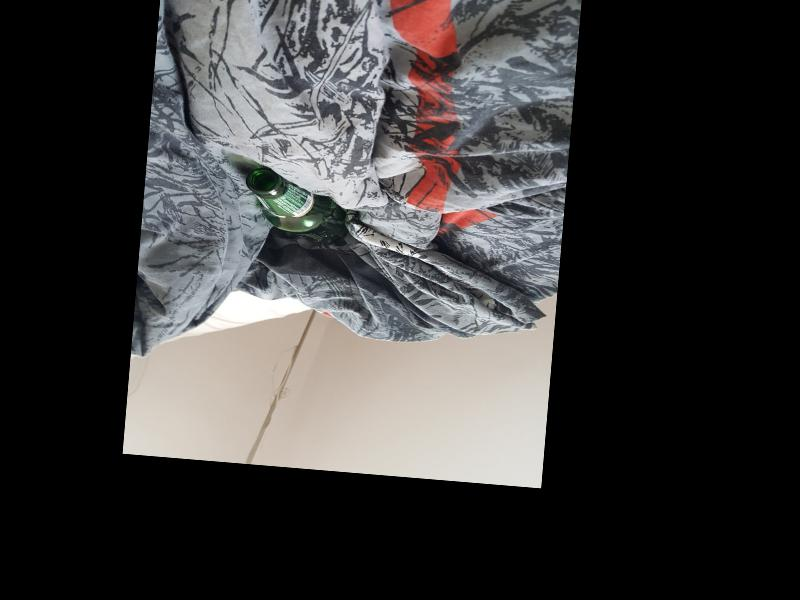Beer: (240, 165, 354, 245)
